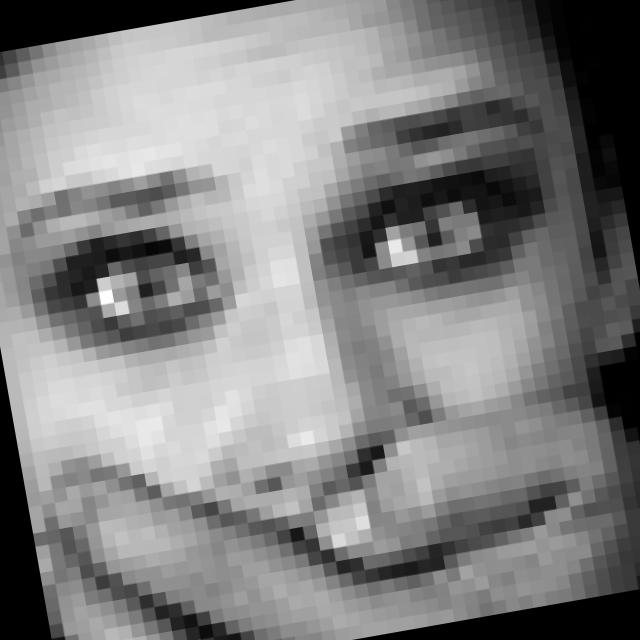fear: (1, 86, 604, 640)
